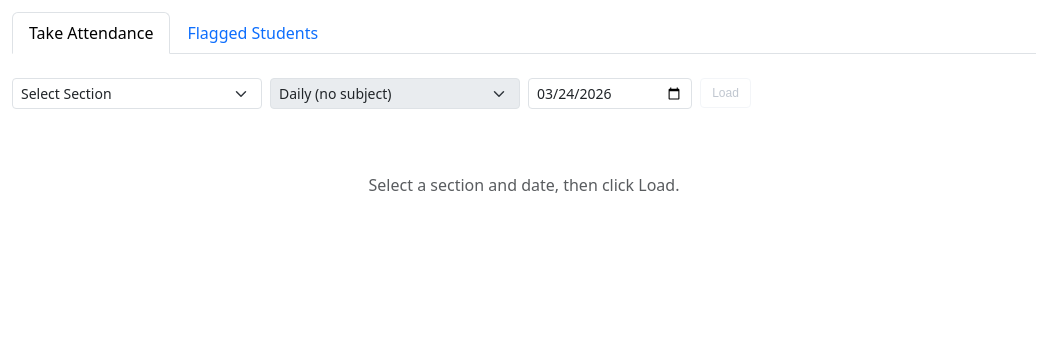
Scenario: AttendancePage › attendance sheet after load › renders student rows after loading
Select "Grade 7 — Section A" in the 1st dropdown at [137, 94], box [12, 78, 262, 109]
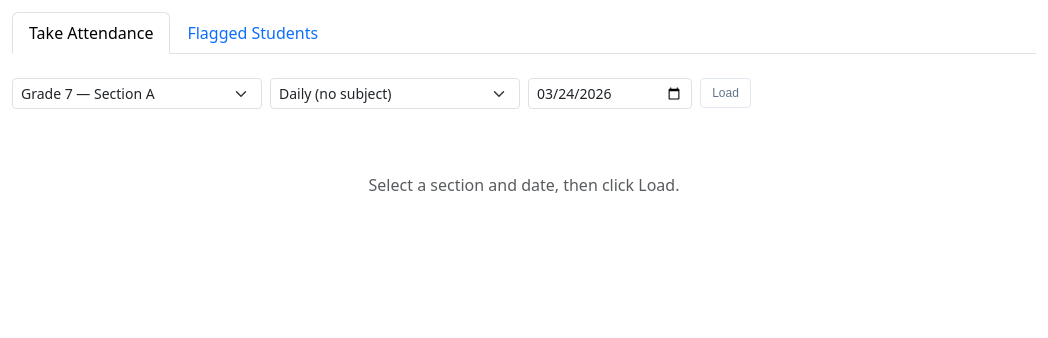
Click the button "Load" at [726, 93], box [700, 78, 751, 108]
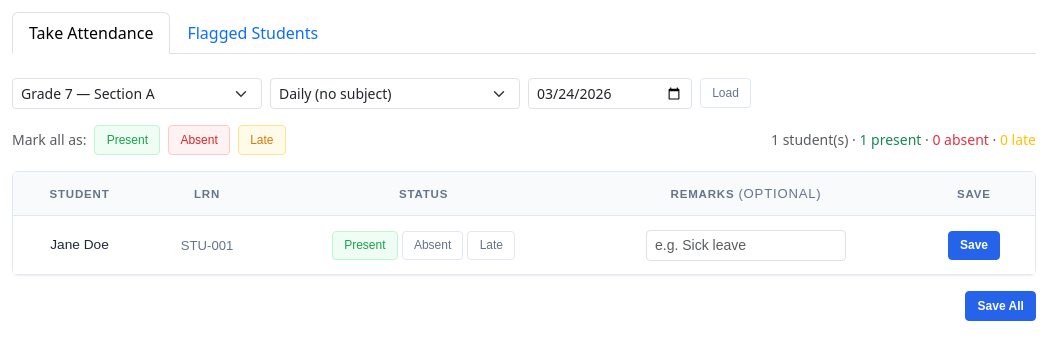
Expected: the text "Jane Doe" is shown, [13, 216, 146, 274]
